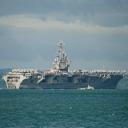Portanaves: (2, 37, 127, 91)
